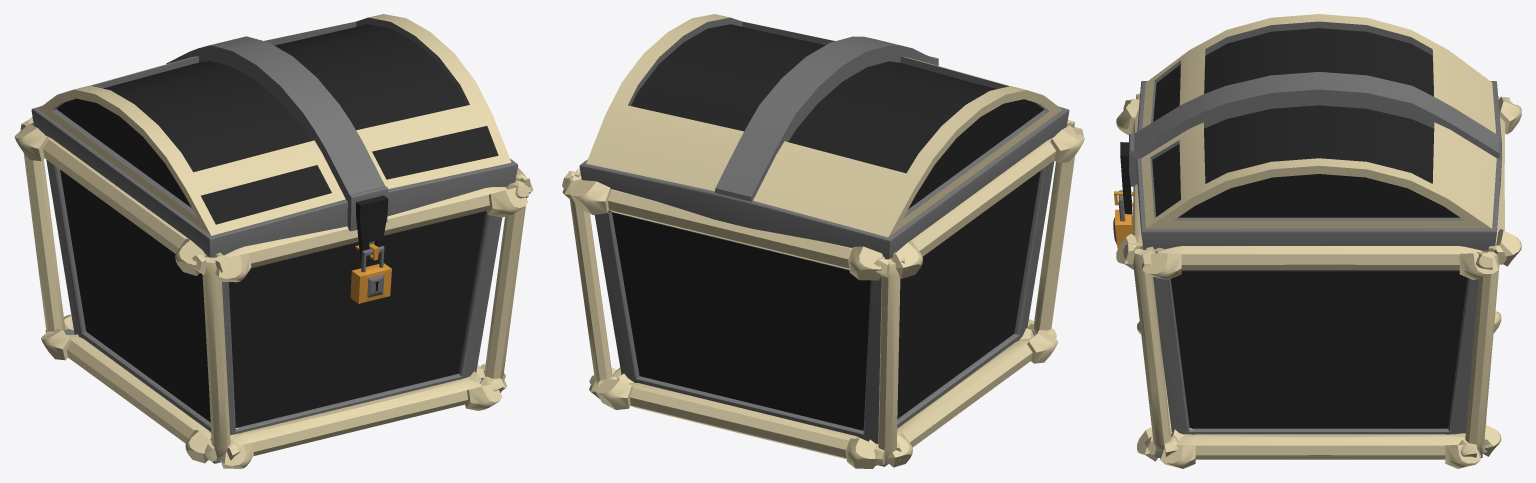
Rendered from Bones-Cofre.fbx.
3 renders of one model, left to right at view 1: azimuth 30°, elevation 25°; view 2: azimuth 150°, elevation 25°; view 3: azimuth 270°, elevation 25°, orthographic.
Visible parts, largest first — view 1: Cube.005; view 2: Cube.005; view 3: Cube.005.
Part boxes in pixels (x1,y1,x2,y2): Cube.005: (14, 14, 533, 468); Cube.005: (562, 14, 1084, 468); Cube.005: (1113, 14, 1521, 468).
Bounding box in the file's own units: 226 × 196 × 228.
